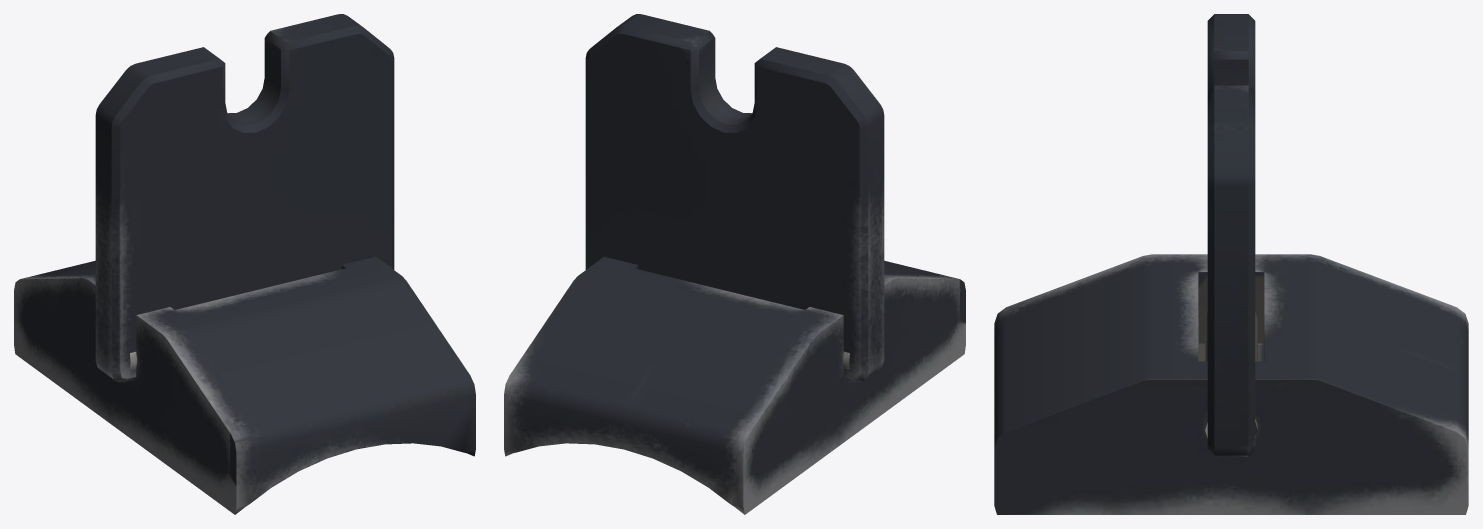
File: alca_cano_22.glb
3 views of the same model, side by side, from view 1: azimuth 30°, elevation 25°; view 2: azimuth 150°, elevation 25°; view 3: azimuth 270°, elevation 25° (orthographic). The views are drawn at different scales.
Visible parts, largest first — view 1: alca_cano_22_lamina, alca_cano_22_base; view 2: alca_cano_22_lamina, alca_cano_22_base; view 3: alca_cano_22_base, alca_cano_22_lamina.
Boxes of the visible parts, left/top/right/bottom form: alca_cano_22_lamina: left=95, top=14, right=394, bottom=382; alca_cano_22_base: left=14, top=256, right=475, bottom=514; alca_cano_22_lamina: left=585, top=14, right=884, bottom=382; alca_cano_22_base: left=504, top=256, right=965, bottom=514; alca_cano_22_base: left=994, top=254, right=1468, bottom=514; alca_cano_22_lamina: left=1207, top=14, right=1255, bottom=456.
Size of the model in its own units: 0.0132 by 0.0161 by 0.018.
Materials: 1 (1 with a texture image).
